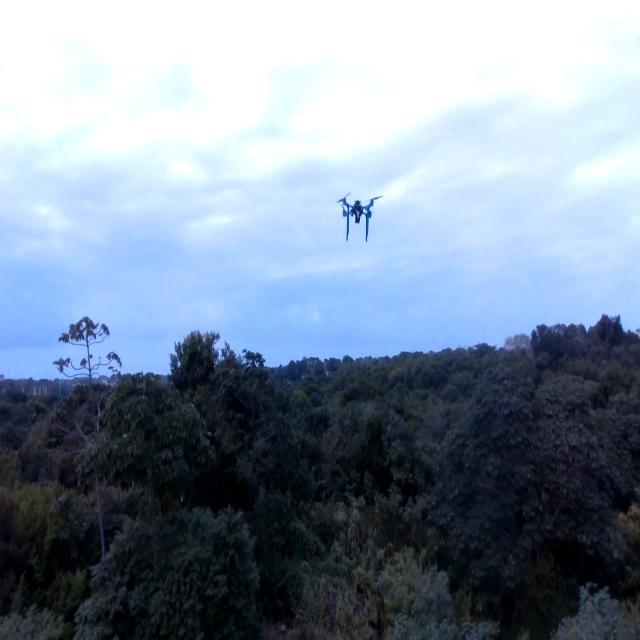-uav-: (332, 182, 386, 252)
